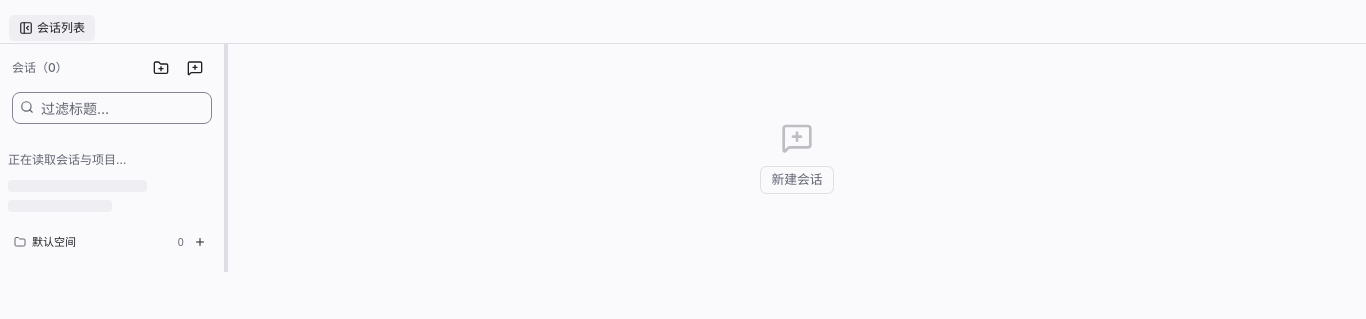
Test case: names the project directory field and associates a failed create with its error
The image size is (1366, 319).
Click the button named "新建项目空间（绑定一个项目目录）".
click(161, 68)  # box [144,54,178,82]
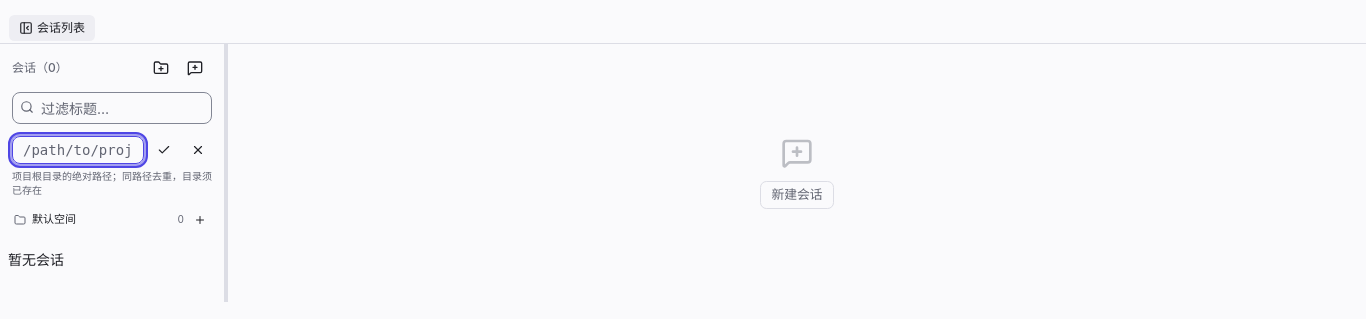
Type "/fixture/missing" into the field named "新项目目录".
click(78, 150); type("/fixture/missing")  # box [12,136,144,164]
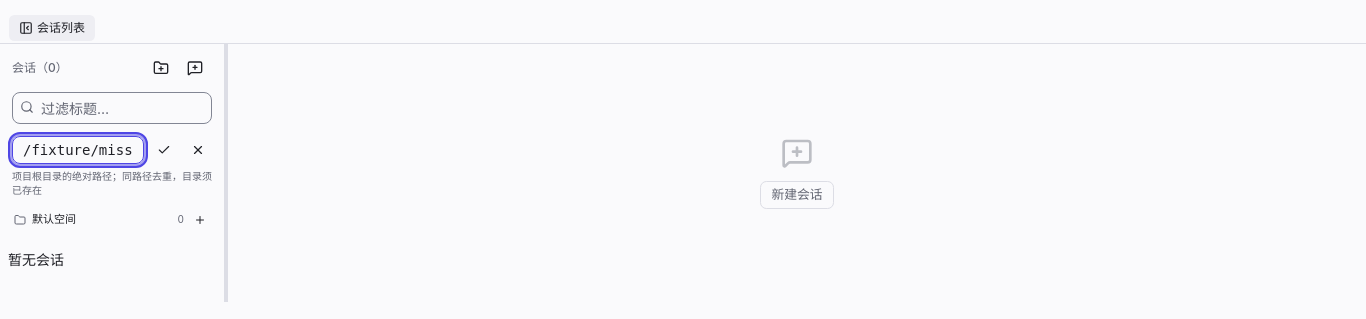
Click the button named "创建".
click(164, 150)  # box [150,136,178,164]
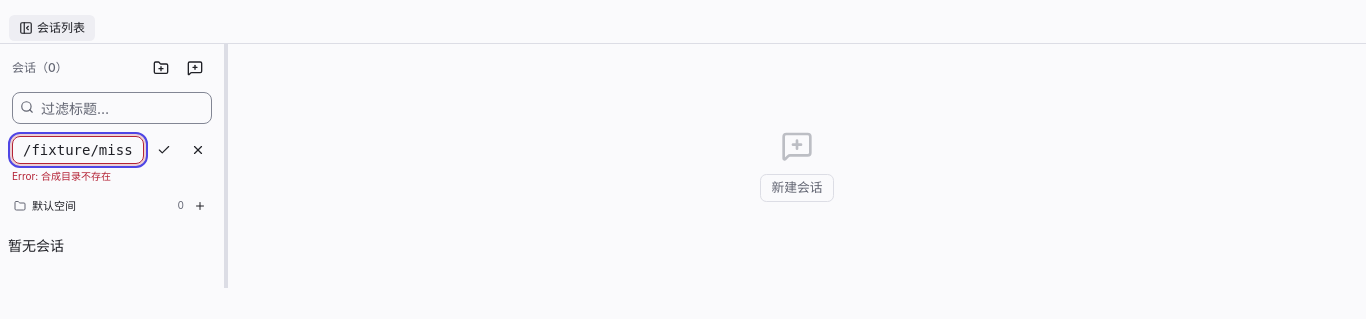
expect the message shows "合成目录不存在": met, box [12,170,111,182]
